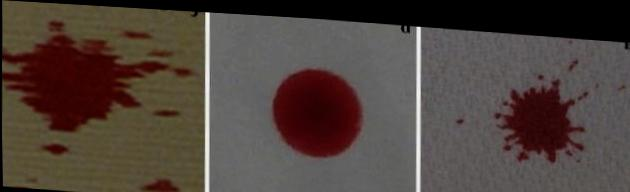Fire: (1, 33, 169, 131), (271, 64, 363, 154), (494, 71, 584, 156)
